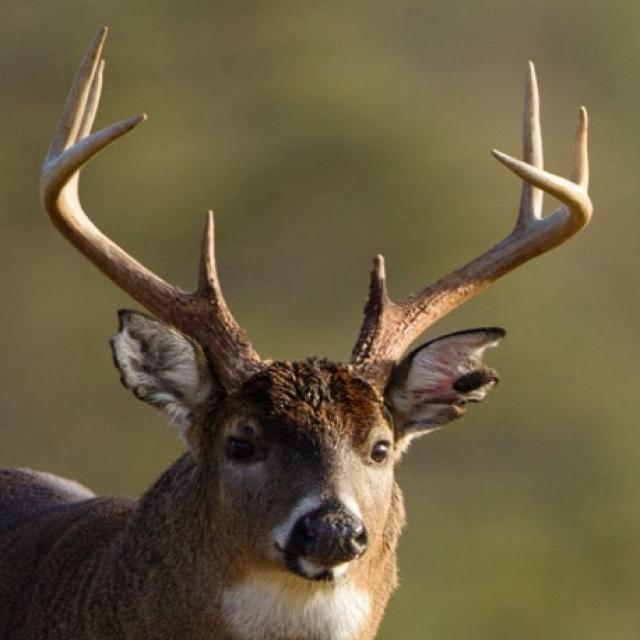L-F: (348, 148, 595, 393)
L-G1: (364, 254, 393, 316)
R-F: (40, 113, 261, 388)
R-G1: (198, 207, 225, 300)
